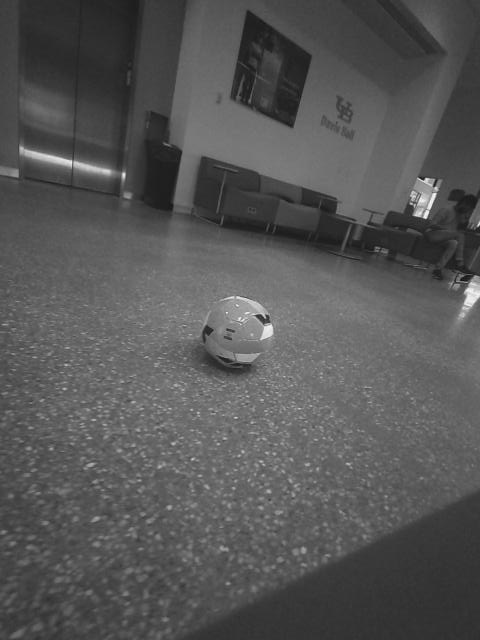ball: (276, 313, 318, 354)
